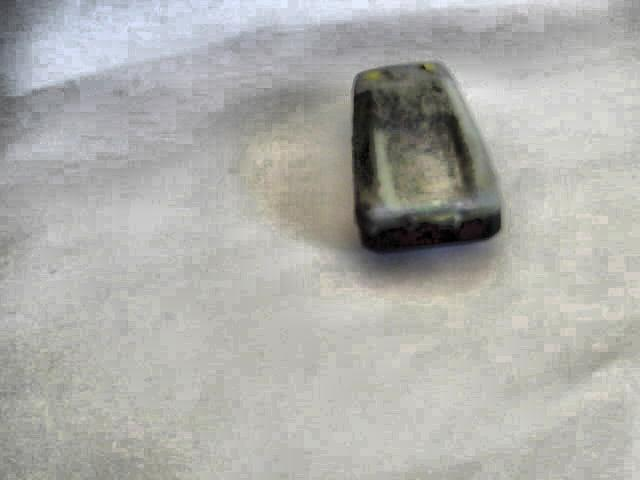normal_car: (348, 61, 504, 255)
